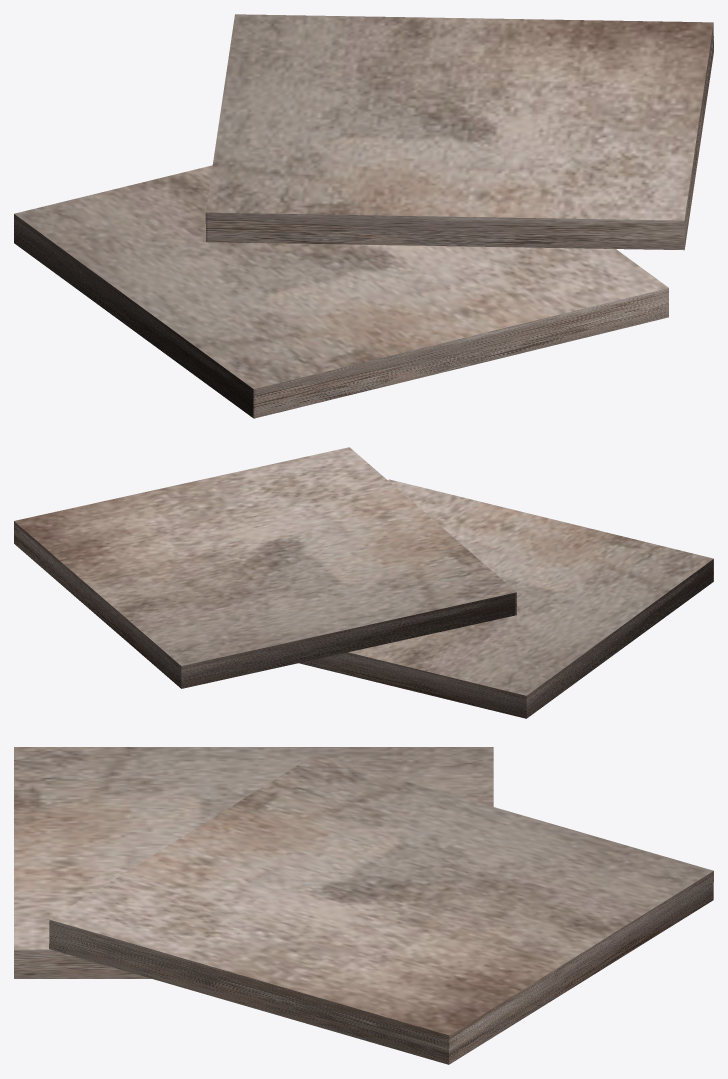
The model's file is metal.fbx.
3 renders of one model, top to bottom at view 1: azimuth 30°, elevation 25°; view 2: azimuth 150°, elevation 25°; view 3: azimuth 270°, elevation 25°, orthographic. The views are drawn at different scales.
Parts seen in each view (by area): view 1: Куб.002, Куб.001; view 2: Куб.002, Куб.001; view 3: Куб.002, Куб.001.
Boxes of the visible parts, x1,y1,x2,y2 form: Куб.002: [205, 14, 713, 250]; Куб.001: [14, 165, 668, 418]; Куб.002: [14, 447, 516, 688]; Куб.001: [299, 479, 713, 718]; Куб.002: [49, 755, 713, 1064]; Куб.001: [14, 747, 493, 978].
Bounding box in the file's own units: 48.06 × 5.12 × 43.
